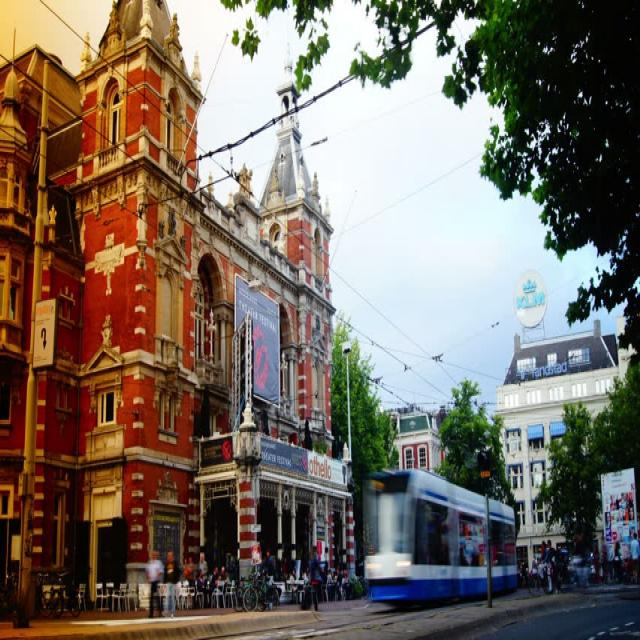body: (455, 475, 636, 585), (276, 544, 351, 609), (162, 546, 184, 618), (144, 546, 164, 618), (256, 545, 276, 612), (218, 564, 230, 609), (630, 529, 640, 579), (197, 568, 208, 603), (210, 564, 222, 591), (186, 555, 194, 593), (199, 551, 209, 580), (181, 554, 188, 582), (636, 523, 640, 545)
